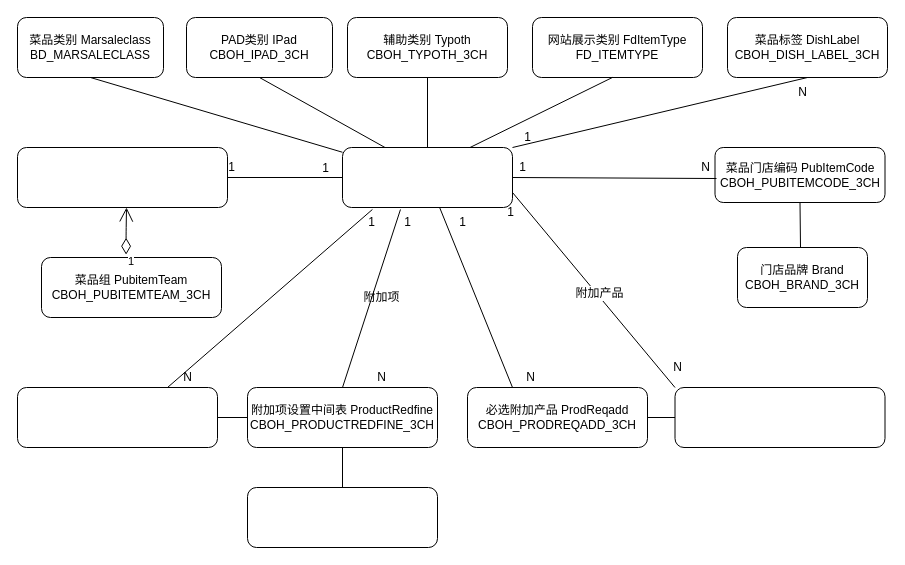
Some shapes in this 905 by 565 pixel diagram are drawn without their labels. The centre of each missing label's shape, as x and y in pixels:
"必选附加项 ProdcutReqAttac CBOH_PRODCUTREQATTAC_3CH" belongs at [117,417].
"菜品 PubItem CBOH_PUBITEM_3CH" belongs at [427,177].
"菜品组明细 PubitemTeamDetail CBOH_PUBITEMTEAMDETAIL_3CH" belongs at [122,177].
"附加产品中间表 Productadditional CBOH_PRODUCTADDITIONAL_3CH" belongs at [779,417].
"附加项 Redfine CBOH_REDEFINE_3CH" belongs at [342,517].
